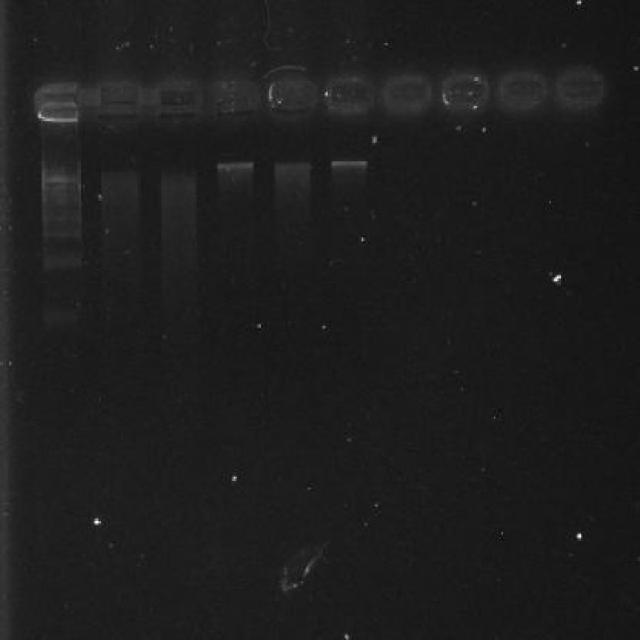B: (270, 157, 318, 177), (213, 156, 256, 175), (326, 157, 372, 174)
L: (19, 55, 618, 138)
M: (32, 147, 90, 338)
P: (42, 252, 84, 272), (40, 176, 82, 195), (40, 309, 82, 328), (40, 226, 83, 242), (40, 210, 82, 224), (40, 194, 82, 208)
Pc: (262, 62, 320, 126), (322, 66, 378, 122), (554, 64, 610, 119), (379, 68, 436, 121), (28, 76, 82, 130), (154, 73, 203, 129), (496, 68, 550, 117), (93, 78, 142, 130), (212, 74, 260, 126), (438, 71, 492, 117)
